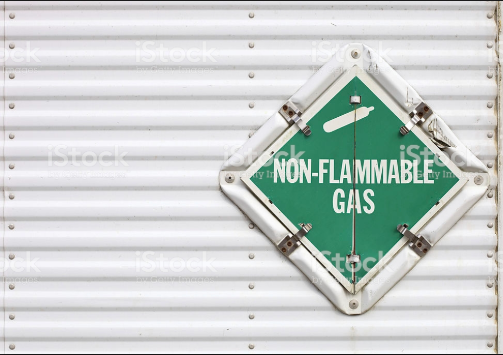NonFlammableGas: (252, 76, 460, 285)
